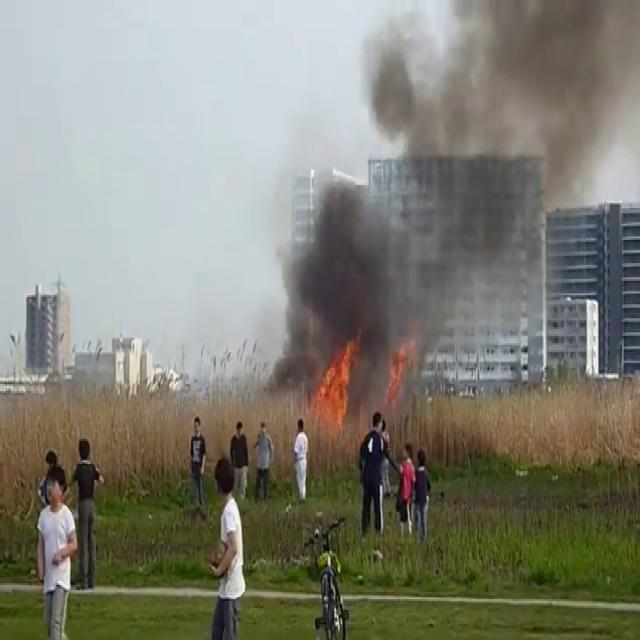Fire: (310, 330, 362, 434)
Smoke: (272, 0, 640, 384)
